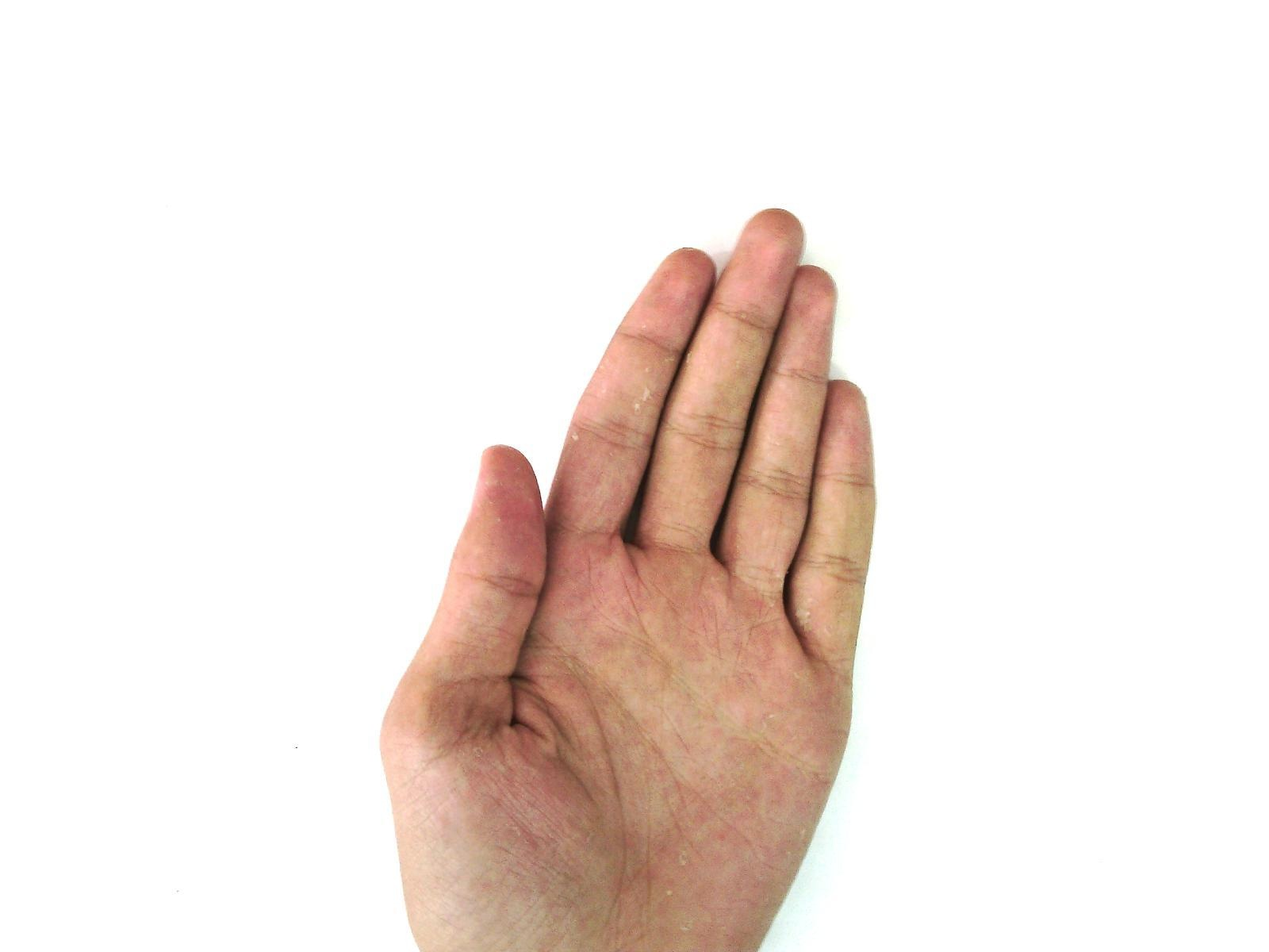open_palm: (378, 207, 880, 951)
